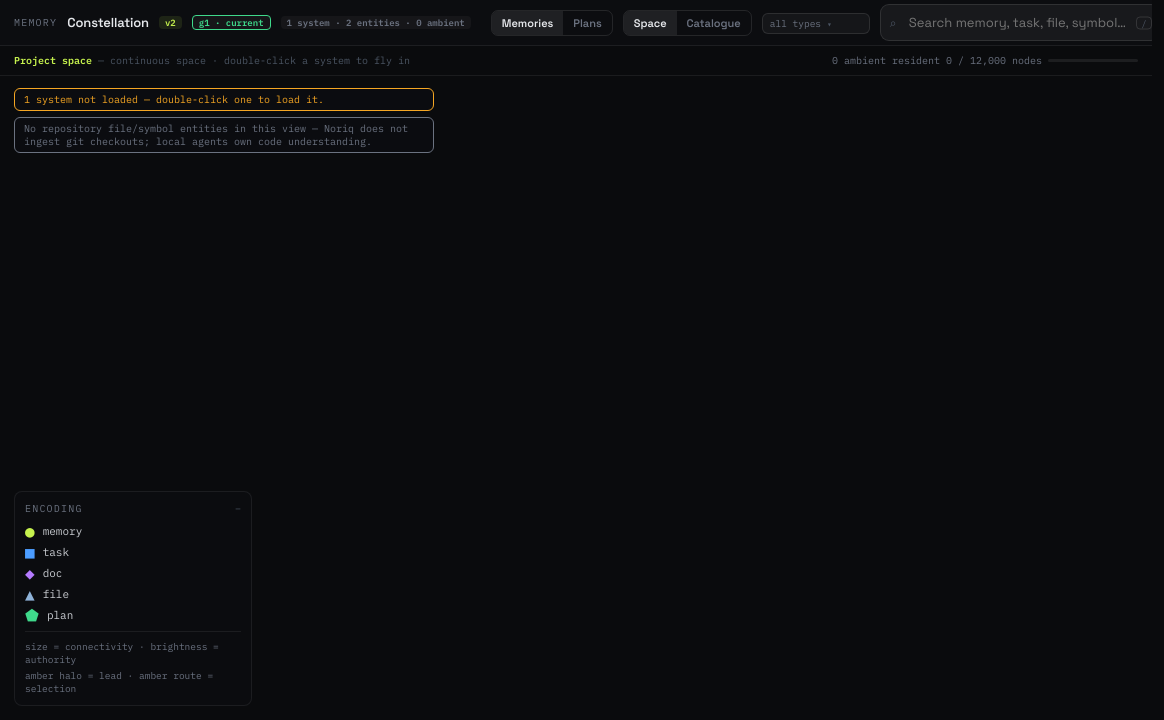
MemoryConstellationV2 encoding legend (PLNR-438) › states the five primary type rows plus the size/brightness/halo/route sentence, and can be toggled
The image size is (1164, 720).
Expected: the element named "Constellation encoding legend" is shown, [14, 491, 252, 706]
Expected: the element named "Constellation encoding legend" shows "memory", [43, 524, 82, 538]
Click the button "Encoding −": (133, 508) [25, 502, 241, 515]
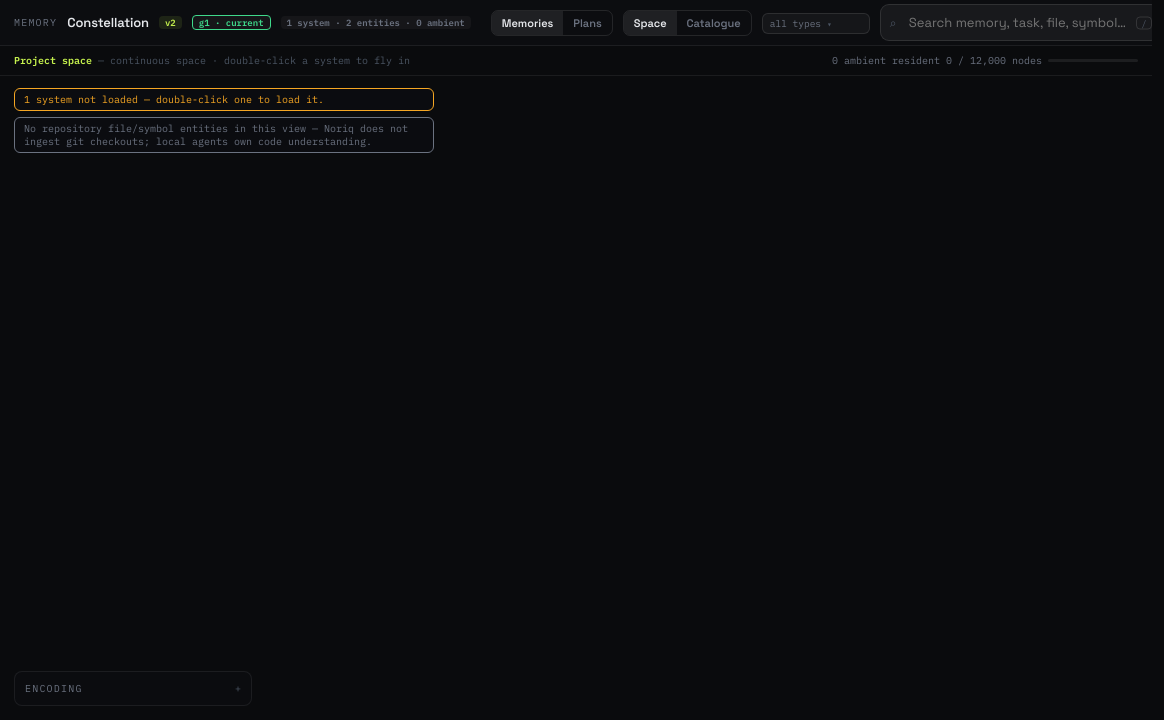
Result: the button "Encoding +" is collapsed
Result: the text named "Constellation encoding legend" no longer shows "size = connectivity"
Click the button "Encoding +": (133, 688) [25, 682, 241, 695]
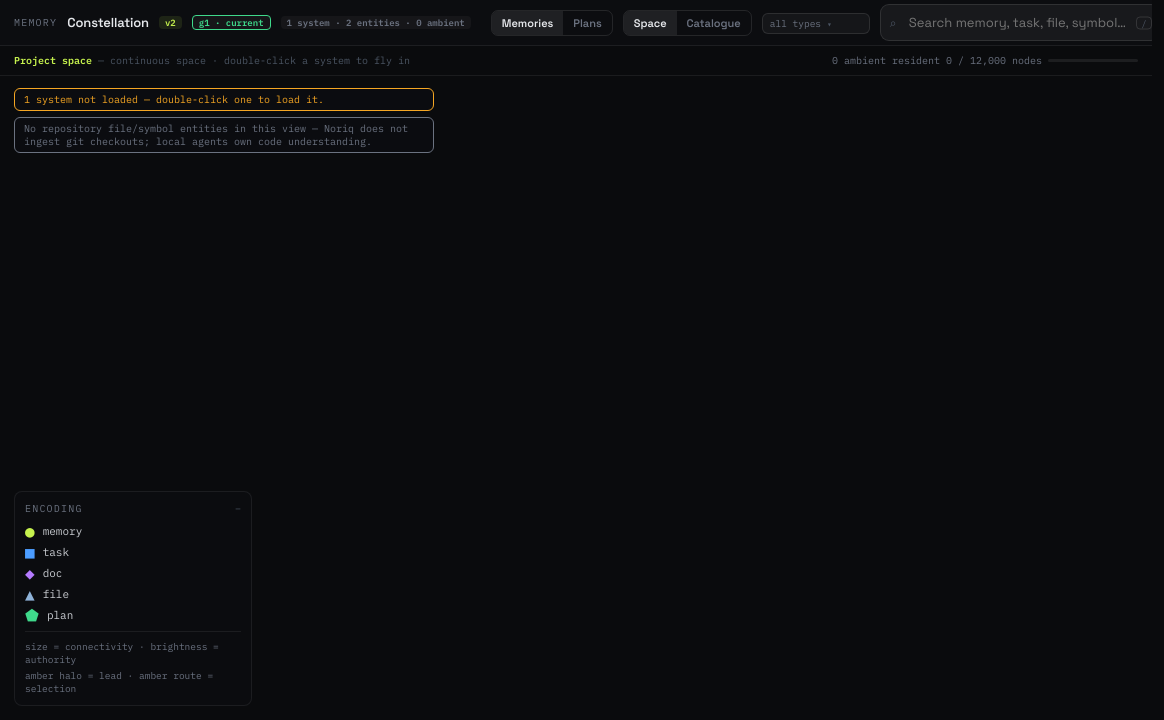
Result: the button "Encoding −" is expanded at [25, 502, 241, 515]
Result: the element named "Constellation encoding legend" shows "size = connectivity · brightness = authority" at [25, 640, 219, 666]
